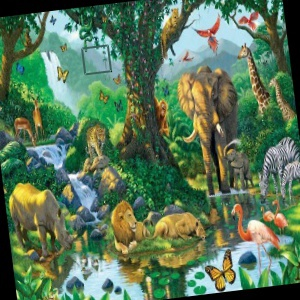square: (79, 44, 115, 77)
